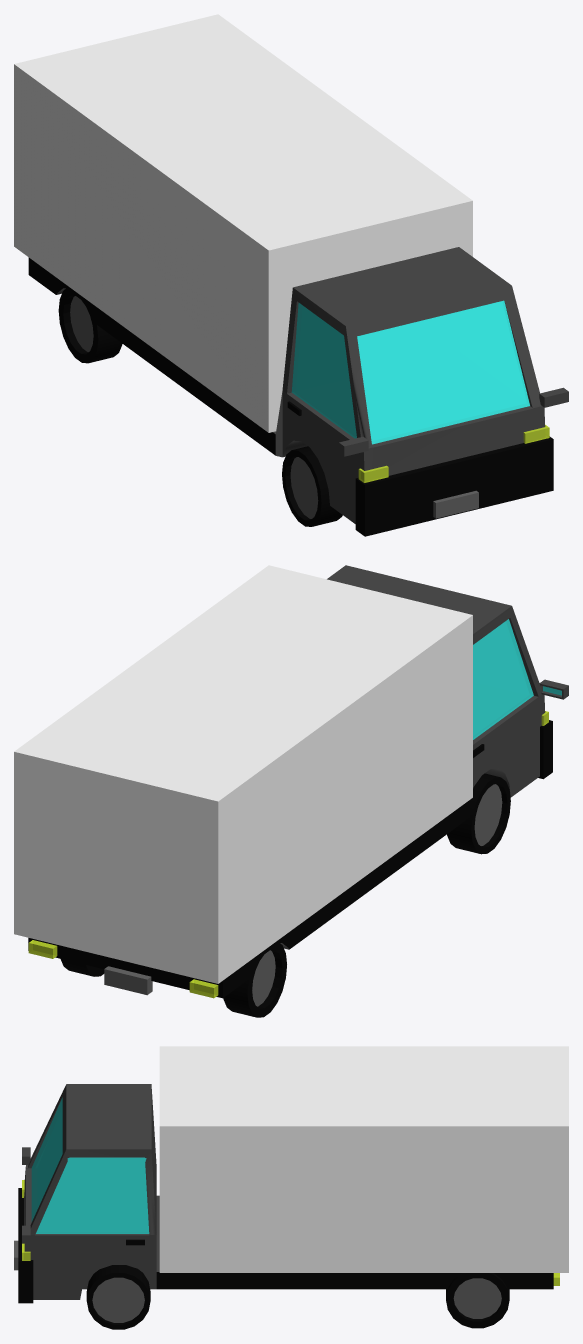
Rendered from lowpoly car2 grey & white.fbx.
The picture shows the model from 3 angles, top to bottom: view 1: azimuth 30°, elevation 25°; view 2: azimuth 150°, elevation 25°; view 3: azimuth 270°, elevation 25°; orthographic projection. The views are drawn at different scales.
Parts seen in each view (by area): view 1: Box043, Box033, Box037, Box039, Box035, Cylinder030, Cylinder014, Box040; view 2: Box043, Box033, Box035, Cylinder030, Cylinder014, Box049, Box039; view 3: Box043, Box033, Box038, Cylinder015, Cylinder029, Box037, Box039.
Part boxes in pixels (x1=…): Box043: x1=14, y1=14, x2=472, y2=432; Box033: x1=28, y1=247, x2=545, y2=523; Box037: x1=357, y1=300, x2=529, y2=444; Box039: x1=355, y1=436, x2=553, y2=536; Box035: x1=291, y1=303, x2=356, y2=438; Cylinder030: x1=282, y1=446, x2=342, y2=526; Cylinder014: x1=58, y1=288, x2=122, y2=363; Box040: x1=433, y1=490, x2=478, y2=518; Box043: x1=14, y1=565, x2=472, y2=983; Box033: x1=28, y1=565, x2=545, y2=998; Box035: x1=473, y1=619, x2=533, y2=739; Cylinder030: x1=447, y1=773, x2=510, y2=854; Cylinder014: x1=223, y1=943, x2=286, y2=1017; Box049: x1=104, y1=966, x2=152, y2=995; Box039: x1=538, y1=720, x2=552, y2=779; Box043: x1=159, y1=1046, x2=568, y2=1272; Box033: x1=24, y1=1084, x2=553, y2=1299; Box038: x1=36, y1=1157, x2=149, y2=1233; Cylinder015: x1=86, y1=1265, x2=150, y2=1329; Cylinder029: x1=446, y1=1273, x2=509, y2=1328; Box037: x1=31, y1=1097, x2=62, y2=1221; Box039: x1=18, y1=1188, x2=33, y2=1303.
Bounding box in the file's own units: 77.86 × 84.99 × 207.
